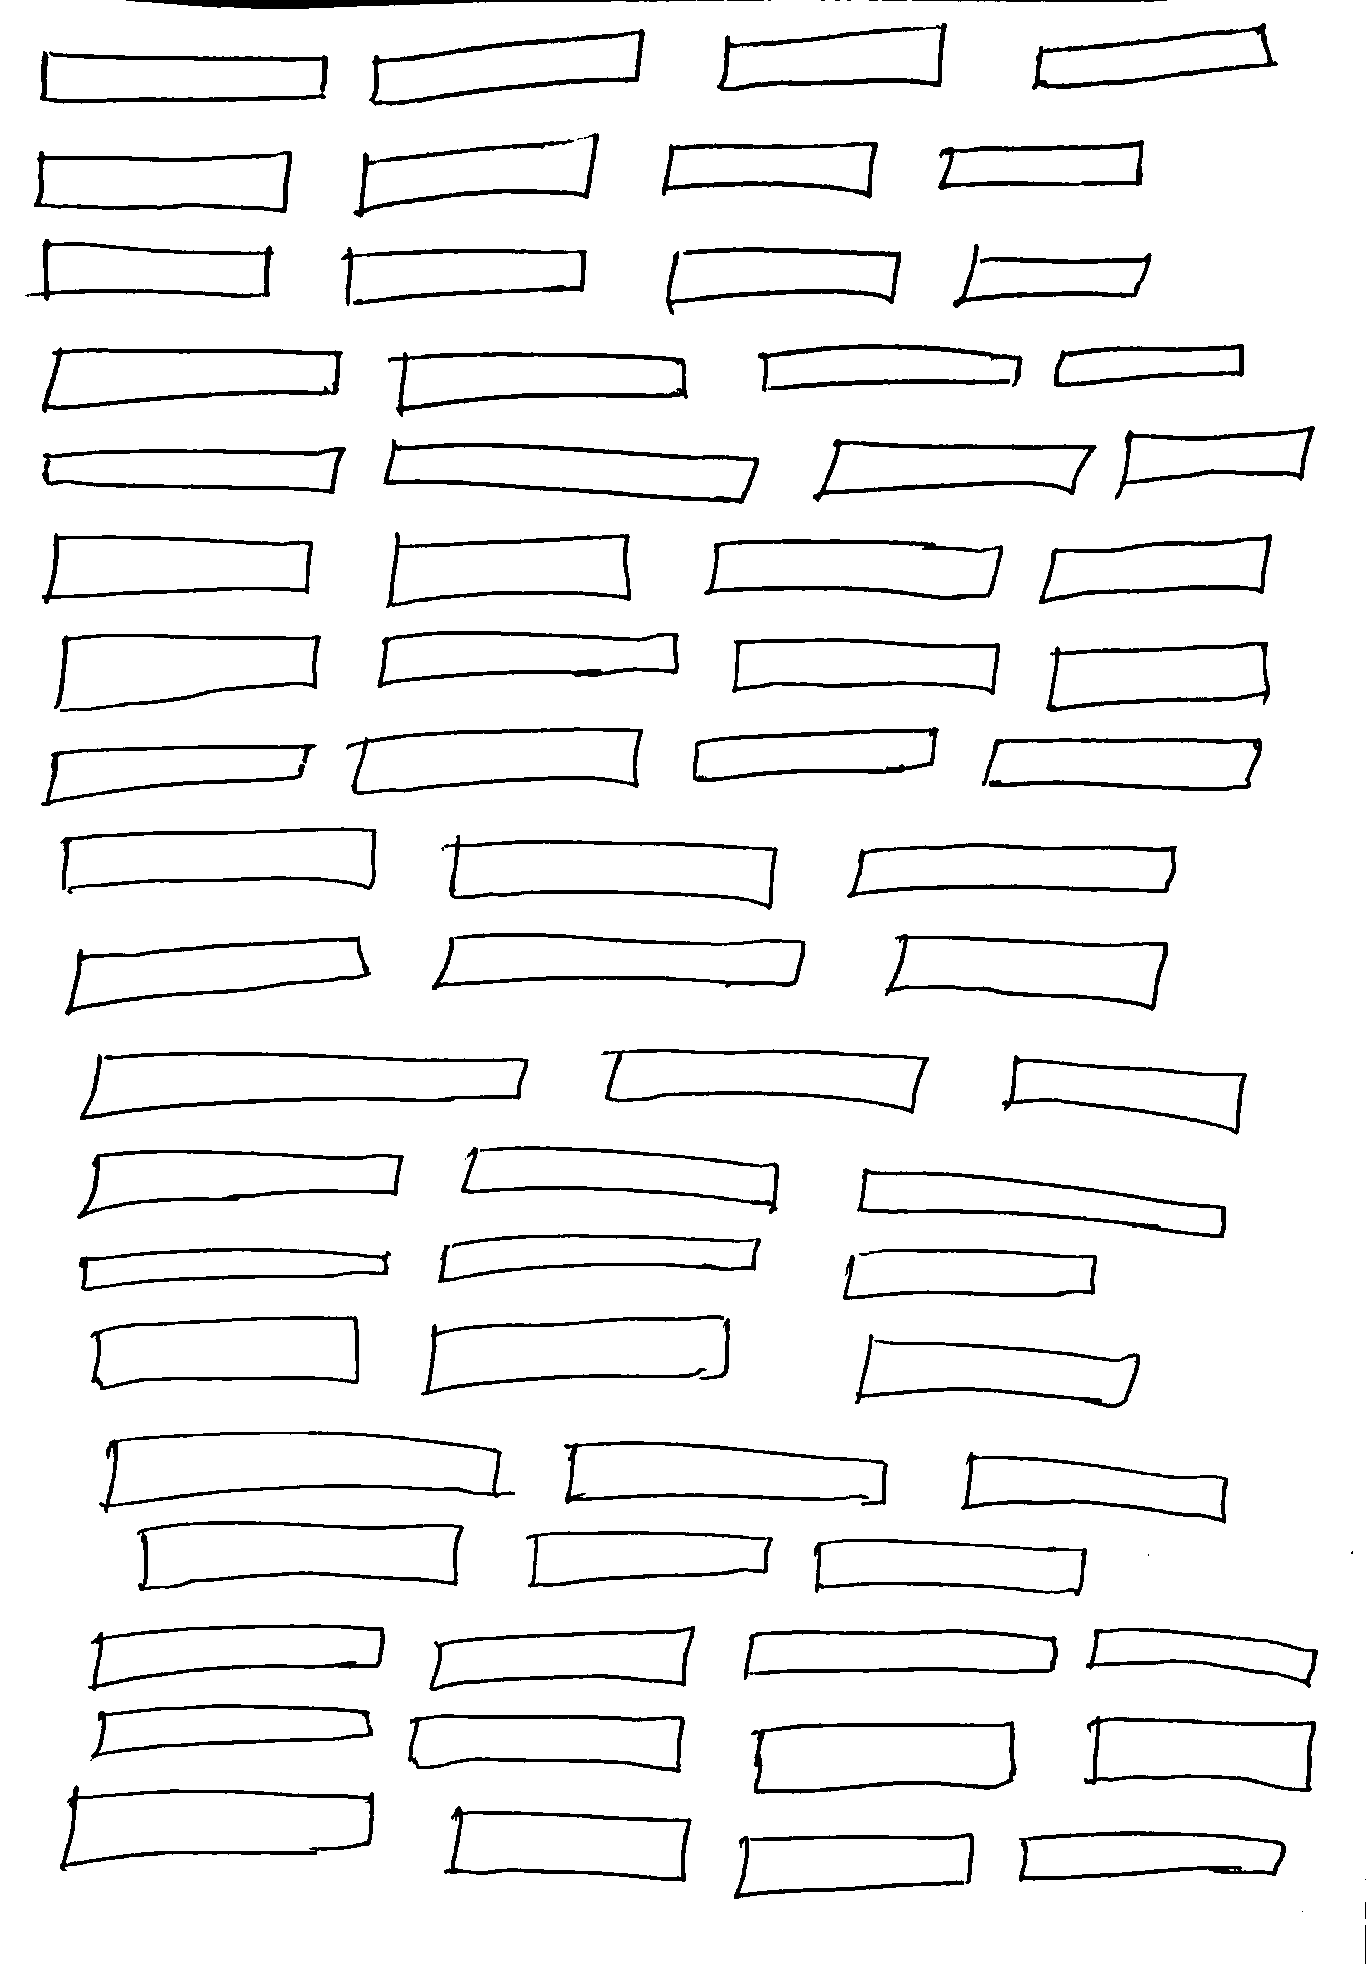Textbox: (102, 1430, 505, 1510), (79, 1051, 528, 1119), (855, 1166, 1226, 1239), (60, 1786, 376, 1870), (422, 1312, 733, 1395), (136, 1518, 464, 1594), (66, 936, 372, 1016), (384, 440, 757, 503), (81, 1148, 405, 1219), (446, 840, 779, 909), (369, 28, 646, 109), (564, 1439, 888, 1507), (431, 930, 806, 988), (57, 631, 319, 713), (355, 131, 600, 219), (90, 1313, 361, 1392), (885, 934, 1167, 1010), (605, 1048, 932, 1113), (396, 348, 690, 419), (37, 345, 342, 413), (852, 1336, 1141, 1407), (461, 1145, 779, 1209), (90, 1622, 387, 1691), (349, 727, 645, 795), (63, 825, 378, 889), (754, 1721, 1020, 1795), (976, 730, 1264, 798), (1002, 1055, 1247, 1136), (961, 1451, 1230, 1521), (846, 842, 1176, 898), (449, 1807, 691, 1883), (385, 533, 631, 606), (1090, 1713, 1317, 1792), (705, 539, 1005, 598), (31, 146, 294, 213), (43, 533, 312, 598), (427, 1627, 696, 1692), (378, 628, 679, 687), (1032, 21, 1276, 93), (740, 1627, 1058, 1680), (717, 21, 949, 93), (408, 1712, 687, 1771), (732, 1831, 973, 1900), (437, 1233, 763, 1283), (343, 243, 587, 310), (1038, 534, 1270, 604), (43, 743, 316, 803), (39, 49, 331, 104), (814, 437, 1097, 492), (812, 1537, 1088, 1594), (732, 637, 1000, 695), (1045, 642, 1270, 710), (667, 245, 902, 310), (93, 1703, 376, 1757), (40, 237, 278, 301), (691, 725, 941, 784), (78, 1246, 391, 1292), (43, 445, 346, 492), (842, 1246, 1097, 1301), (528, 1533, 773, 1589), (761, 342, 1023, 394), (1088, 1627, 1318, 1685), (1017, 1833, 1285, 1882), (661, 140, 882, 196), (1123, 425, 1315, 487), (954, 249, 1154, 307), (938, 140, 1147, 193), (1052, 342, 1244, 385)
